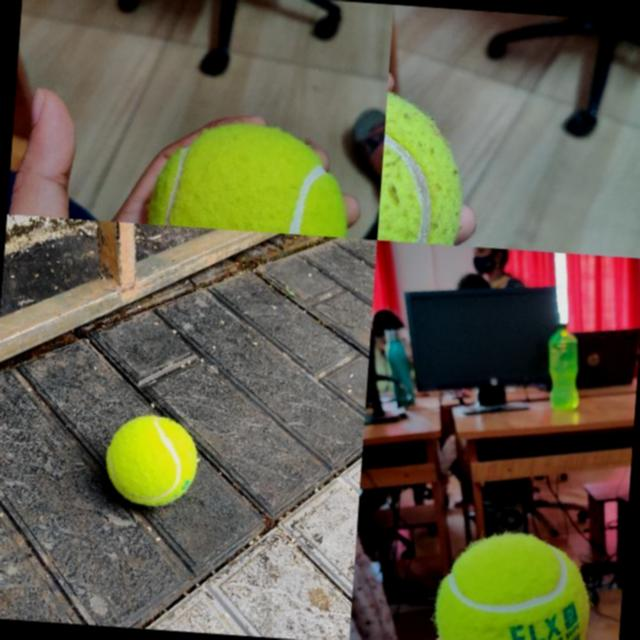tennis-ball: (148, 117, 354, 237), (431, 527, 593, 640), (377, 90, 469, 244), (101, 412, 200, 511)
